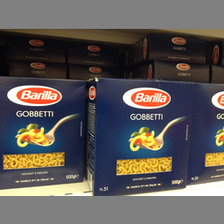pasta: (86, 77, 195, 195), (1, 76, 86, 187)
